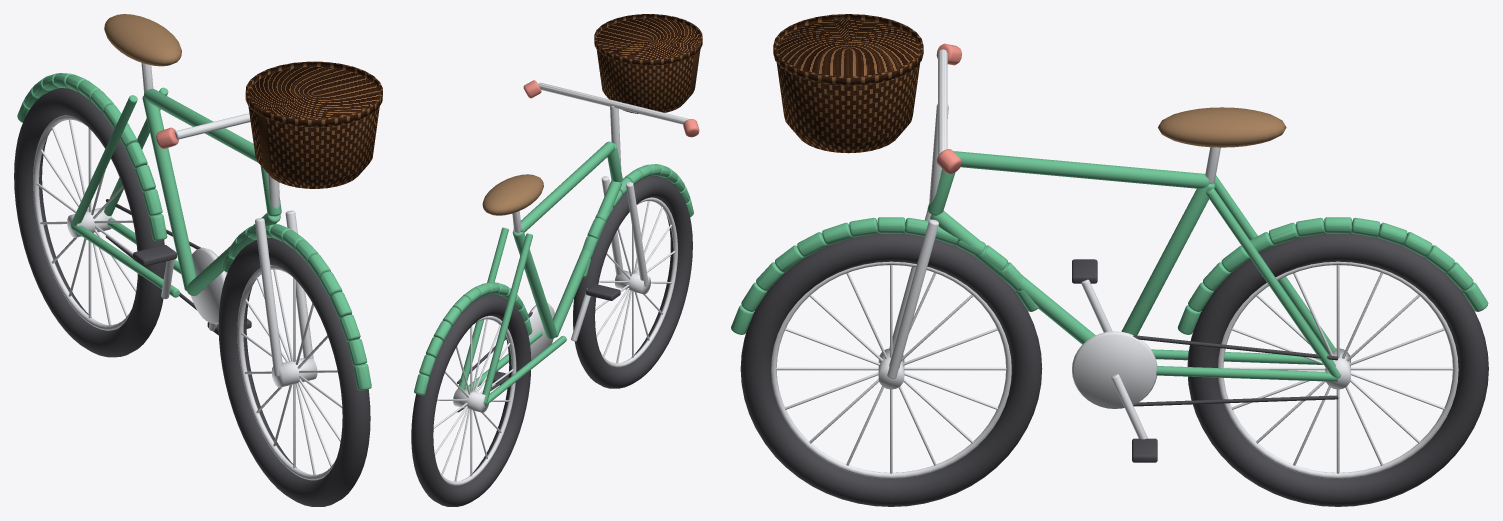
The model's file is bike_green.glb.
3 renders of one model, left to right at view 1: azimuth 30°, elevation 25°; view 2: azimuth 150°, elevation 25°; view 3: azimuth 270°, elevation 25°, orthographic. The views are drawn at different scales.
Visible parts, largest first — view 1: bike_green; view 2: bike_green; view 3: bike_green.
Part boxes in pixels (x1,y1,x2,y2): bike_green: (14,14,382,506); bike_green: (411,14,702,506); bike_green: (731,14,1488,506).
Bounding box in the file's own units: 0.6495 × 1.18 × 1.76.
6 materials, 1 textured.
